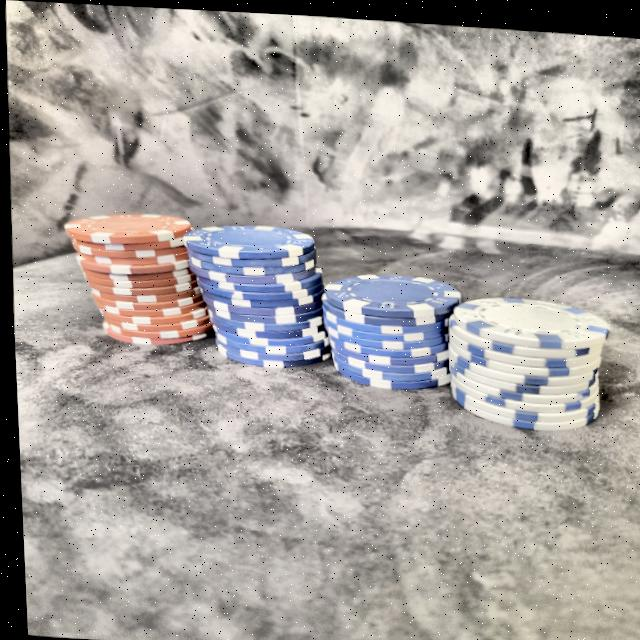Chip: (436, 266, 611, 439), (62, 184, 203, 355), (189, 222, 319, 370), (323, 265, 447, 385)
